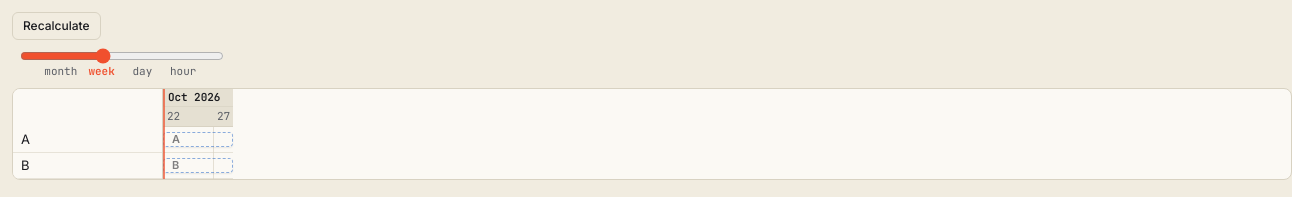
Test case: GanttView › lays the work out and writes the dates it worked out
Click the button "Recalculate": click(56, 26) [12,12,100,40]
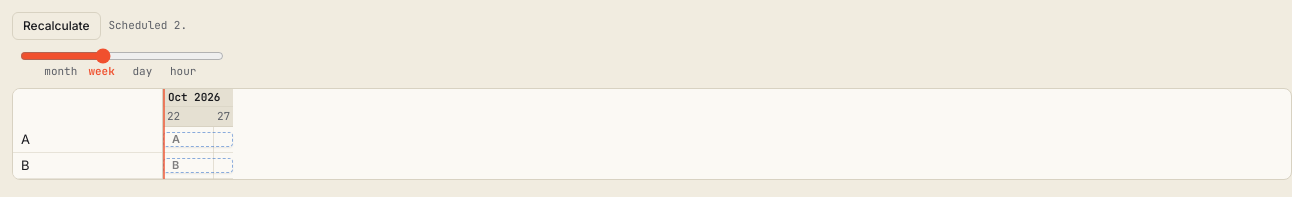
Now the text "Scheduled 2." is shown, box [108,18,187,34]
